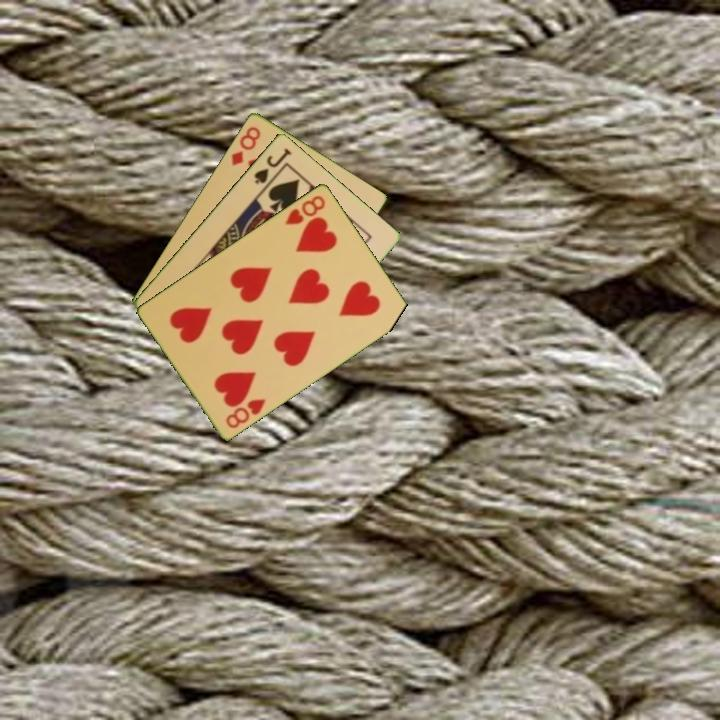8d: (228, 122, 263, 168)
8h: (281, 191, 328, 228), (222, 394, 269, 431)
Js: (250, 144, 294, 187)
